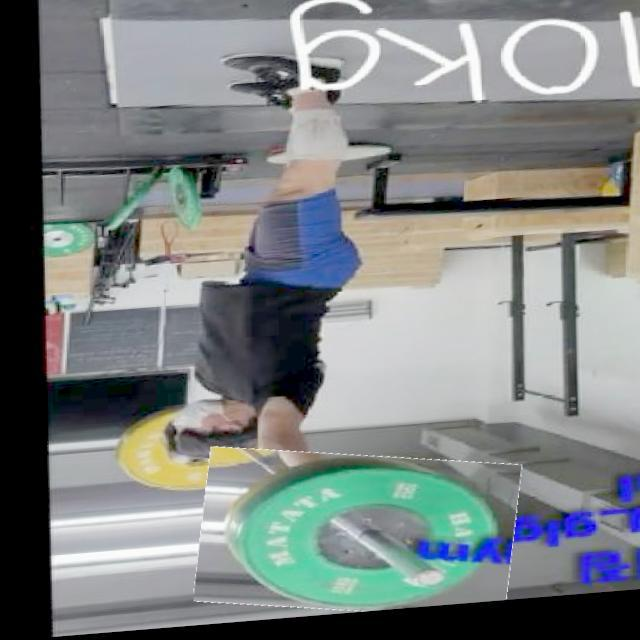barbell: (194, 443, 519, 629)
